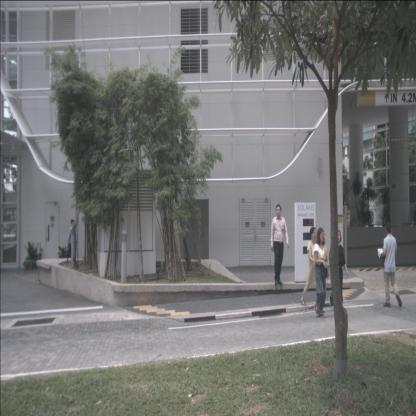human-pedestrian-adult: (377, 222, 402, 308), (301, 227, 325, 312), (270, 203, 289, 286), (329, 230, 348, 307), (314, 228, 328, 317), (67, 219, 79, 269)
